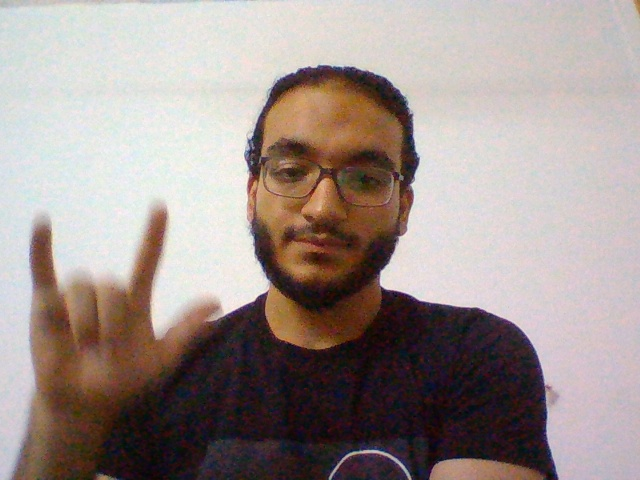I Love Yoy: (19, 183, 228, 406)
